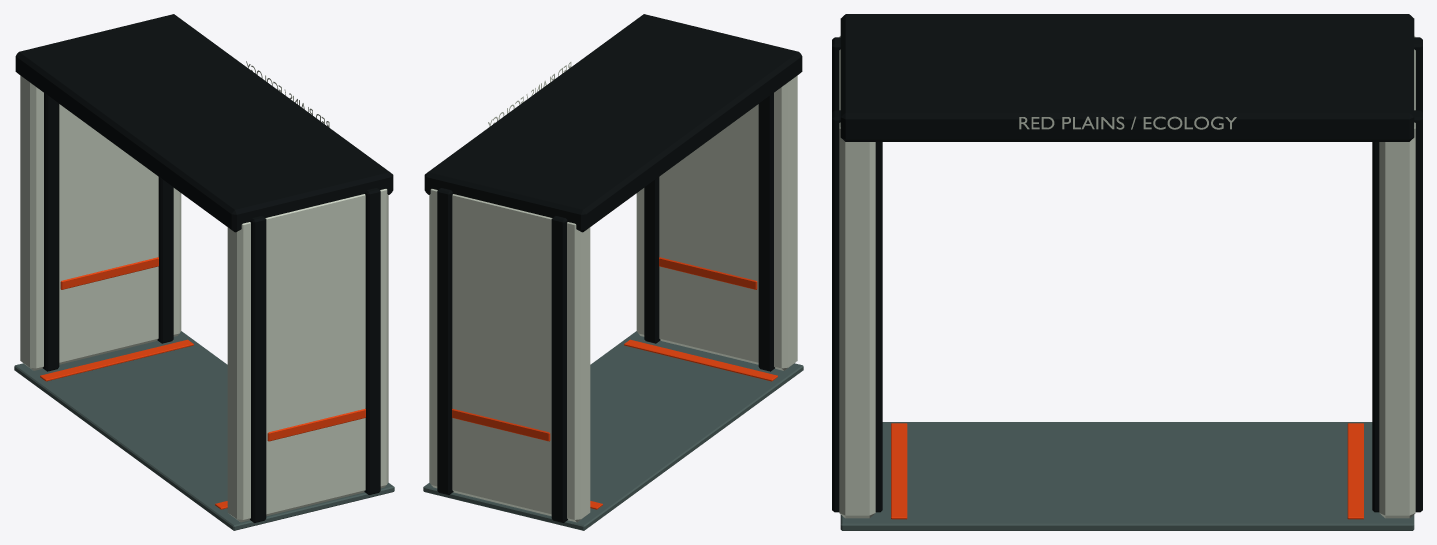
File: SM_MP_Flow_EntryVestibule.fbx
3 views of the same model, side by side, from view 1: azimuth 30°, elevation 25°; view 2: azimuth 150°, elevation 25°; view 3: azimuth 270°, elevation 25° (orthographic). The views are drawn at different scales.
Visible parts, largest first — view 1: SM_MP_Flow_EntryVestibule; view 2: SM_MP_Flow_EntryVestibule; view 3: SM_MP_Flow_EntryVestibule.
Part boxes in pixels (x1,y1,x2,y2): SM_MP_Flow_EntryVestibule: (14, 14, 394, 530); SM_MP_Flow_EntryVestibule: (423, 14, 803, 530); SM_MP_Flow_EntryVestibule: (832, 14, 1422, 530).
Size of the model in its own units: 244 by 582 by 453.
1 material, 1 textured.
